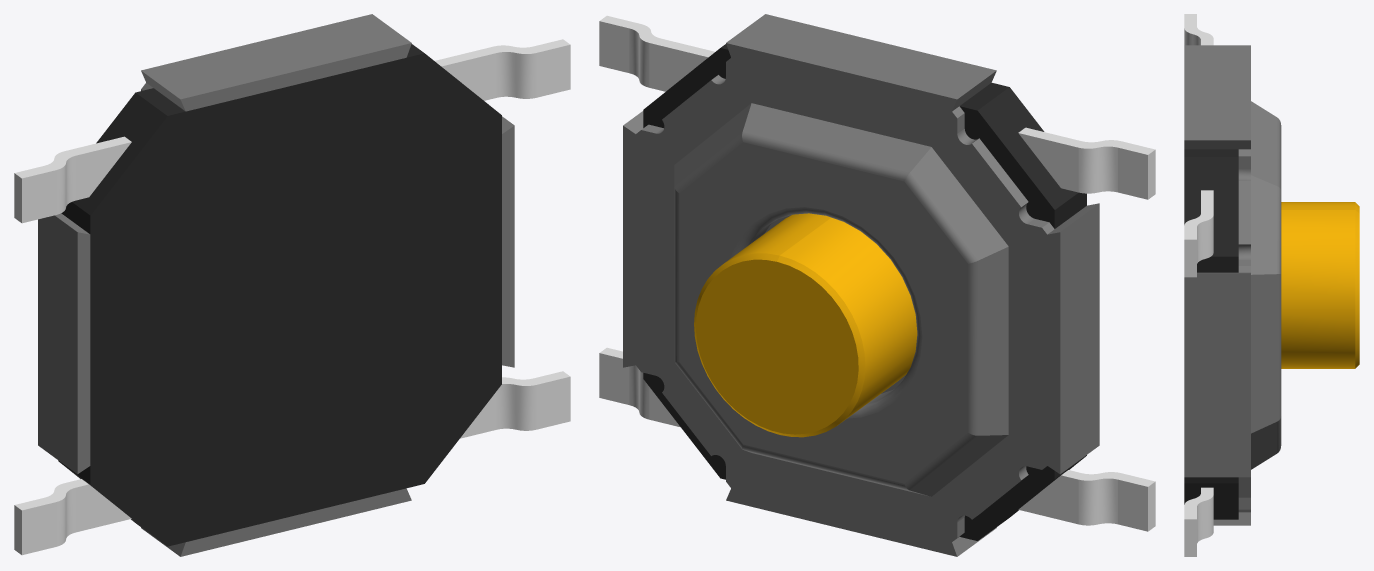
The model's file is sfe-tactile_switch_5.2x5.2mm_h2.5mm.glb.
The picture shows the model from 3 angles, left to right: view 1: azimuth 30°, elevation 25°; view 2: azimuth 150°, elevation 25°; view 3: azimuth 270°, elevation 25°; orthographic projection. The views are drawn at different scales.
Parts seen in each view (by area): view 1: 0_0_0_0, 0.25_0.25_0.25_0, 0.8333333333333334_0.8333333333333334_0.8333333333333334_0.8; view 2: 0.25_0.25_0.25_0, 0.9166666666666666_0.5_0_0, 0.8333333333333334_0.8333333333333334_0.8333333333333334_0.8, 0_0_0_0; view 3: 0.25_0.25_0.25_0, 0.9166666666666666_0.5_0_0, 0_0_0_0, 0.8333333333333334_0.8333333333333334_0.8333333333333334_0.8.
Boxes of the visible parts, x1,y1,x2,y2 form: 0_0_0_0: (58,44,501,546); 0.25_0.25_0.25_0: (38,14,514,556); 0.8333333333333334_0.8333333333333334_0.8333333333333334_0.8: (14,39,570,555); 0.25_0.25_0.25_0: (623,14,1099,556); 0.9166666666666666_0.5_0_0: (694,213,917,437); 0.8333333333333334_0.8333333333333334_0.8333333333333334_0.8: (599,15,1155,531); 0_0_0_0: (643,44,1086,540); 0.25_0.25_0.25_0: (1184,45,1281,525); 0.9166666666666666_0.5_0_0: (1281,202,1359,368); 0_0_0_0: (1184,149,1238,519); 0.8333333333333334_0.8333333333333334_0.8333333333333334_0.8: (1184,14,1213,556).
Size of the model in its own units: 0.64 by 0.51 by 0.21.
